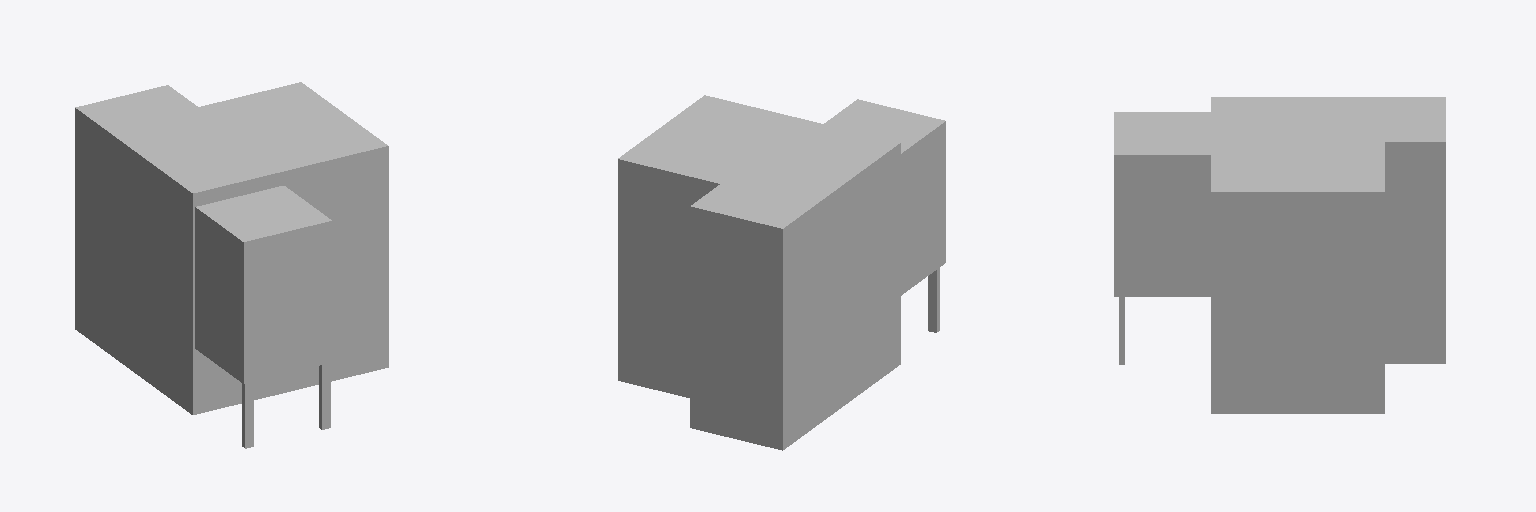
Rendered from house1_bBoxes.obj.
3 renders of one model, left to right at view 1: azimuth 30°, elevation 25°; view 2: azimuth 150°, elevation 25°; view 3: azimuth 270°, elevation 25°, orthographic.
Visible parts, largest first — view 1: Cube.001_Cube.002, Cube_Cube.001, Cube.002_Cube.003, Cube.003_Cube.004, Cube.004_Cube.005; view 2: Cube.001_Cube.002, Cube_Cube.001, Cube.002_Cube.003, Cube.003_Cube.004; view 3: Cube_Cube.001, Cube.001_Cube.002, Cube.002_Cube.003.
Boxes of the visible parts, <box> form: Cube.001_Cube.002: <box>75,85,285,414</box>; Cube_Cube.001: <box>186,82,388,392</box>; Cube.002_Cube.003: <box>195,186,331,383</box>; Cube.003_Cube.004: <box>242,382,253,448</box>; Cube.004_Cube.005: <box>319,363,330,429</box>; Cube.001_Cube.002: <box>690,120,900,450</box>; Cube_Cube.001: <box>618,95,807,397</box>; Cube.002_Cube.003: <box>824,99,945,295</box>; Cube.003_Cube.004: <box>928,268,939,332</box>; Cube_Cube.001: <box>1211,136,1384,413</box>; Cube.001_Cube.002: <box>1211,97,1445,363</box>; Cube.002_Cube.003: <box>1114,112,1210,296</box>.
Bounding box in the file's own units: 129 × 141 × 190.